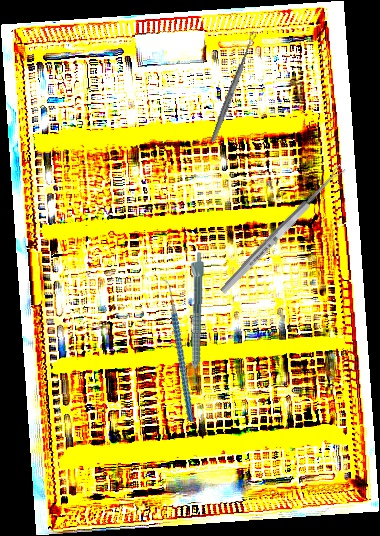Chopper: (135, 276, 218, 423)
Handpiece: (184, 251, 205, 386)
Surgical Spoon: (218, 163, 347, 296), (209, 30, 258, 144)
